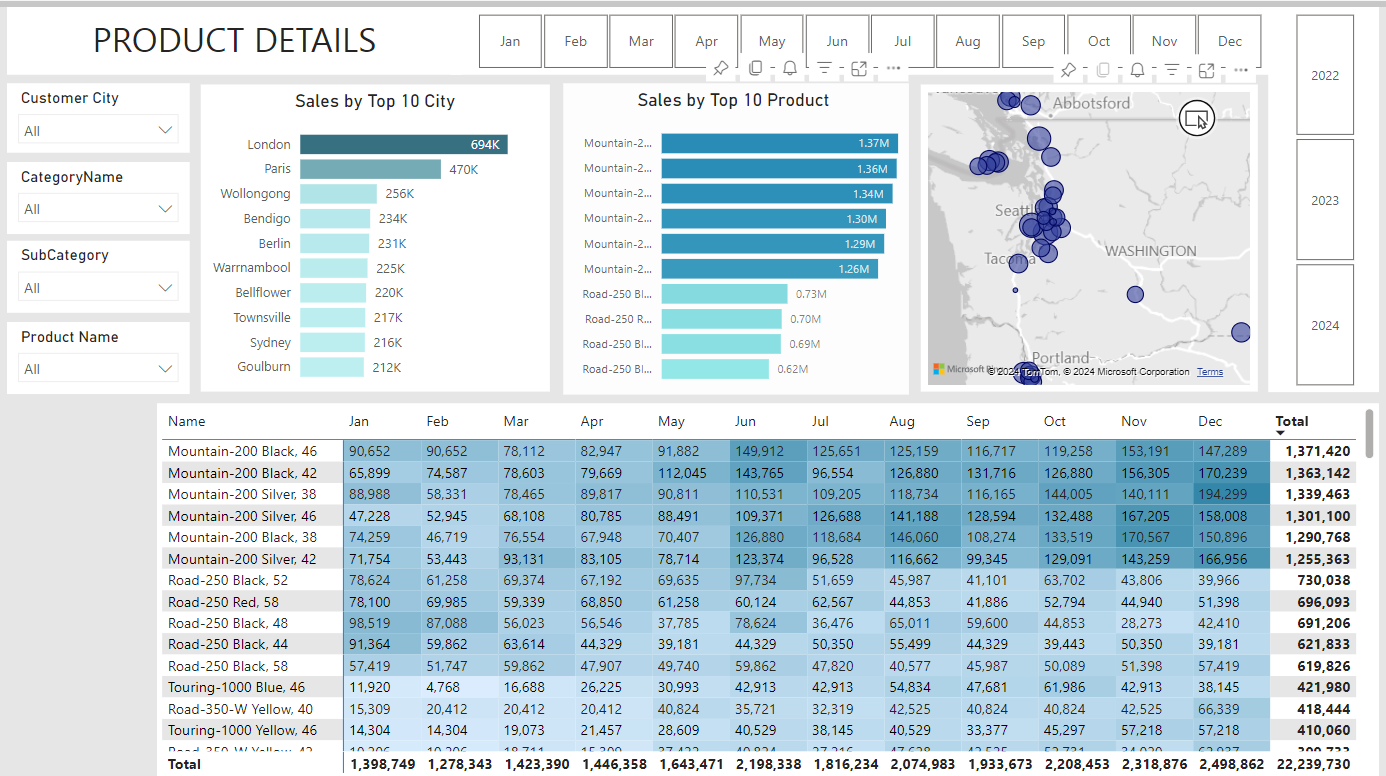

The dashboard page shown, as its layout file describes it:
{"tool":"powerbi","page":{"name":"PRODUCT DETAILS","canvas":[1280,720],"ordinal":2},"visuals":[{"type":"textbox","box":[0,0,424.3,63.6],"z":0},{"type":"slicer","fields":{"Values":["Dim_Customer.CustomerCity"]},"box":[0,71.4,170.2,64.5],"z":1000},{"type":"slicer","fields":{"Values":["Dim_Product.CategoryName"]},"box":[0,144.1,170.2,67.2],"z":2000},{"type":"slicer","fields":{"Values":["Dim_Product.SubCategory"]},"box":[0,218.2,170.2,67.2],"z":3000},{"type":"slicer","fields":{"Values":["Dim_Product.Name"]},"box":[0,293.7,170.2,67.2],"z":4000},{"type":"slicer","fields":{"Values":["Dim_Date.Year"]},"box":[1176,0,104.3,359.5],"z":5000},{"type":"slicer","fields":{"Values":["Dim_Date.MonthShort"]},"box":[413.3,0,780.2,63.6],"z":6000},{"type":"clusteredBarChart","title":"Sales by Top 10 City","fields":{"Category":["Dim_Customer.CustomerCity"],"Y":["Fact_InternetSale.Sale"]},"box":[181.1,72.7,325.2,286.8],"z":7000},{"type":"clusteredBarChart","title":"Sales by Top 10 Customer","fields":{"Category":["Dim_Product.Name"],"Y":["Fact_InternetSale.Sale"]},"box":[518.8,71.2,322.5,290],"z":8000},{"type":"map","fields":{"Category":["Dim_Customer.CustomerCity"],"Size":["Fact_InternetSale.Sale"]},"box":[852.1,72.7,314.2,286.8],"z":9000},{"type":"pivotTable","fields":{"Columns":["Dim_Date.MonthShort"],"Values":["Fact_InternetSale.Sale"],"Rows":["Dim_Product.Name"]},"box":[140,370,1140,350],"z":10000}]}

Visuals, with their boxes on the page's 1280x720 design canvas (x1, y1, x2, y2). These are canvas units, not pixel positions in the 1386x776 screenshot, which may show the page scaled, cropped or inside an application window:
textbox: bbox(0, 0, 424, 64)
slicer - Dim_Customer.CustomerCity: bbox(0, 71, 170, 136)
slicer - Dim_Product.CategoryName: bbox(0, 144, 170, 211)
slicer - Dim_Product.SubCategory: bbox(0, 218, 170, 285)
slicer - Dim_Product.Name: bbox(0, 294, 170, 361)
slicer - Dim_Date.Year: bbox(1176, 0, 1280, 360)
slicer - Dim_Date.MonthShort: bbox(413, 0, 1194, 64)
"Sales by Top 10 City" clusteredBarChart: bbox(181, 73, 506, 360)
"Sales by Top 10 Customer" clusteredBarChart: bbox(519, 71, 841, 361)
map - Dim_Customer.CustomerCity x Fact_InternetSale.Sale: bbox(852, 73, 1166, 360)
pivotTable - Dim_Date.MonthShort x Fact_InternetSale.Sale: bbox(140, 370, 1280, 720)
